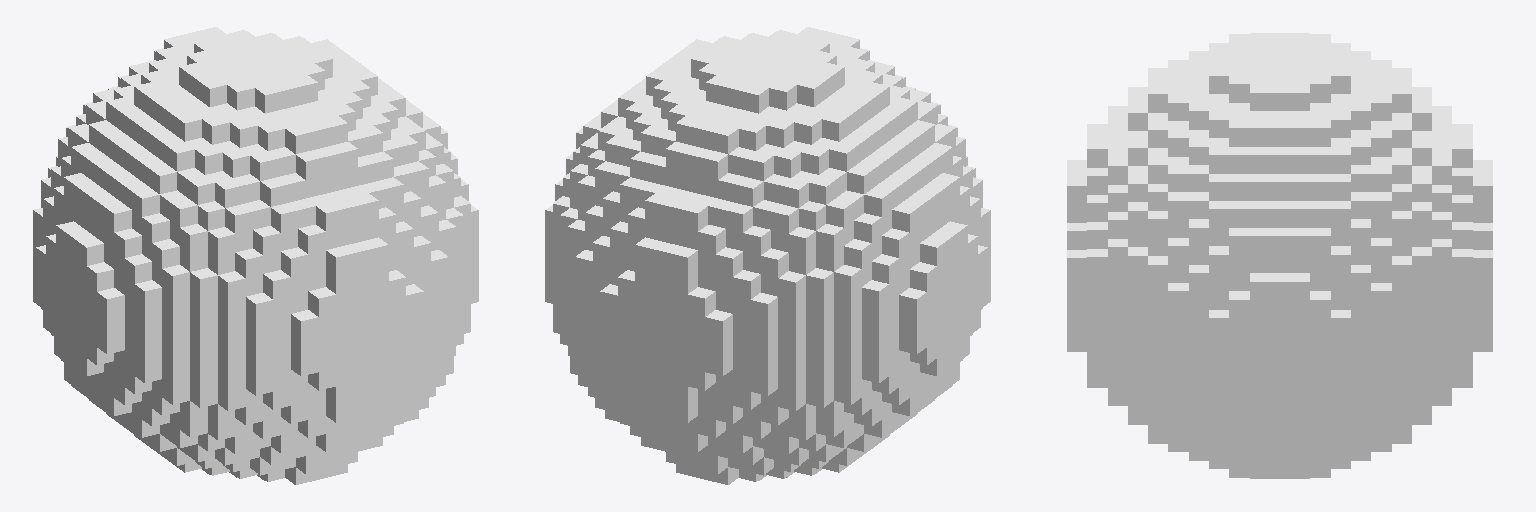
File: orb.obj
3 renders of one model, left to right at view 1: azimuth 30°, elevation 25°; view 2: azimuth 150°, elevation 25°; view 3: azimuth 270°, elevation 25°, orthographic.
Visible parts, largest first — view 1: object 1; view 2: object 1; view 3: object 1.
Boxes of the visible parts, box(x1,y1,x2,y2) form: object 1: box(33, 27, 478, 484); object 1: box(545, 27, 990, 484); object 1: box(1067, 33, 1492, 478).
Bounding box in the file's own units: 2.1 × 2.1 × 2.1.